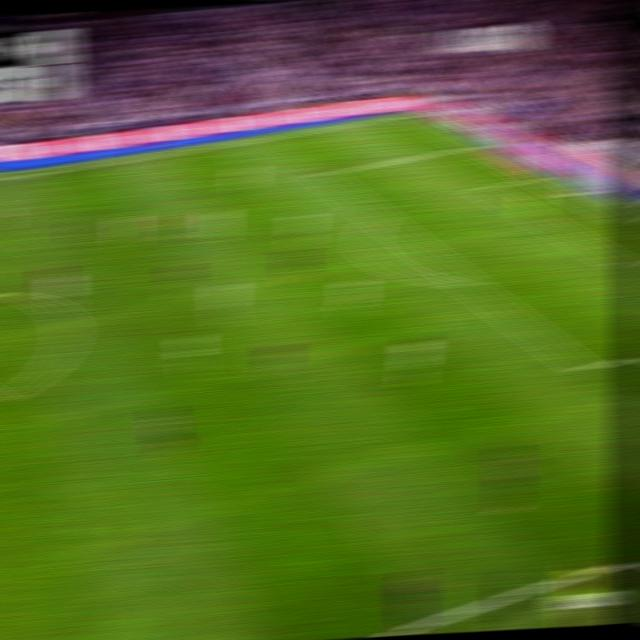bigarea_bottom_inner: (571, 357, 598, 380)
bigarea_top_inner: (310, 168, 334, 181)
bottom_arc_area_intersection: (454, 274, 480, 292)
corner: (397, 110, 421, 120)
smallarea_bottom_inner: (609, 254, 635, 272)
smallarea_top_inner: (473, 182, 496, 193)
top_arc_area_intersection: (366, 209, 391, 224)
